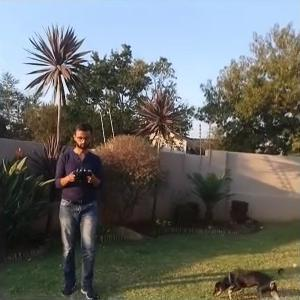follow: (51, 118, 105, 299)
null: (209, 259, 286, 299)
